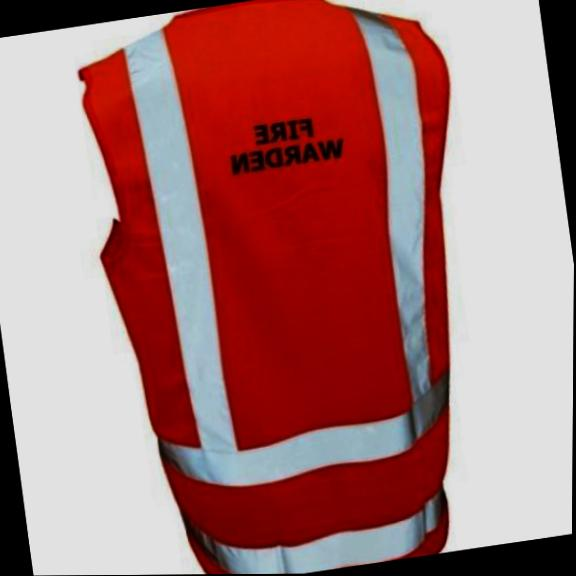safety_vest: (65, 0, 517, 575)
